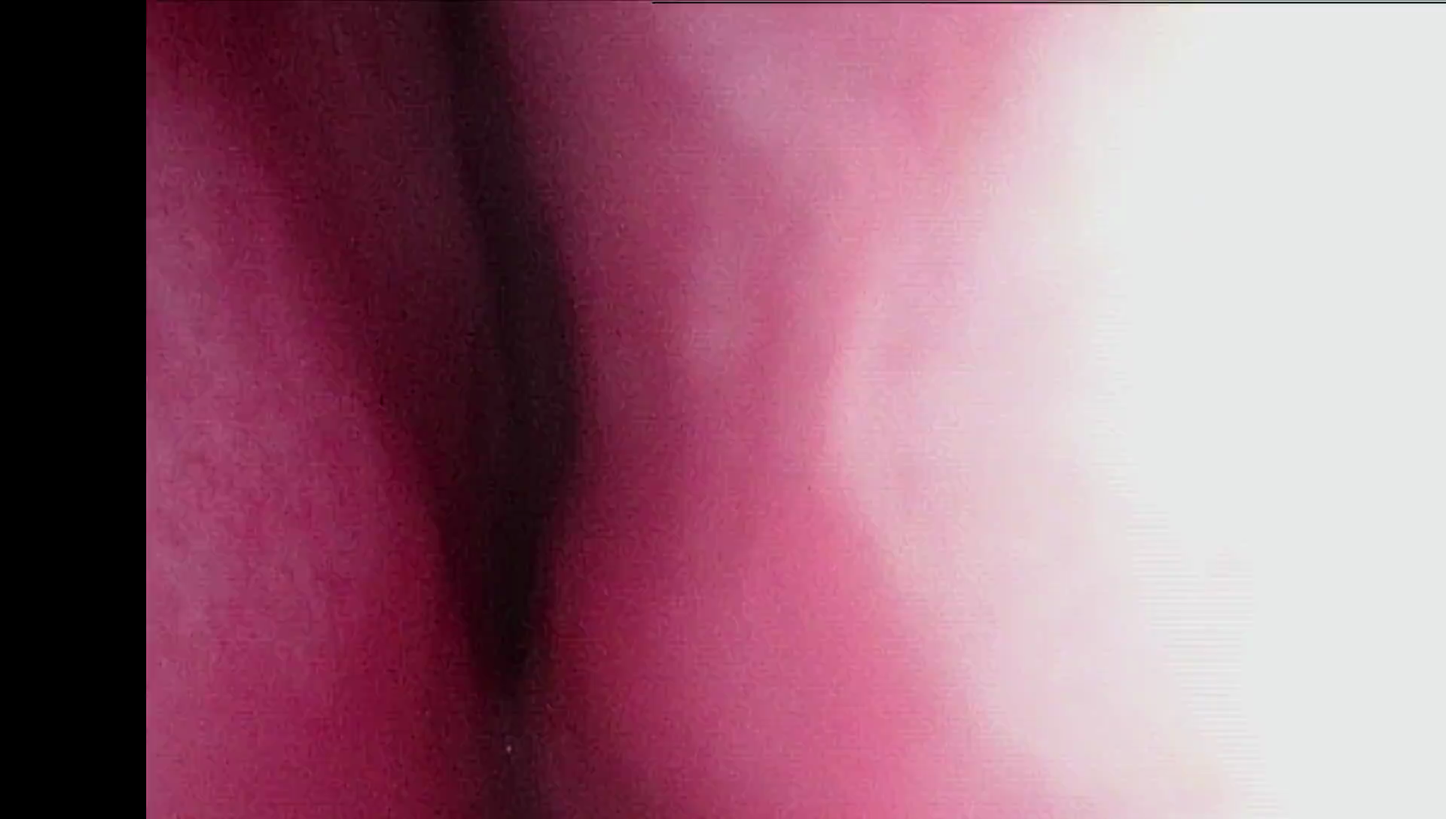close_wall: (679, 7, 1446, 819)
next: (422, 254, 623, 729)
